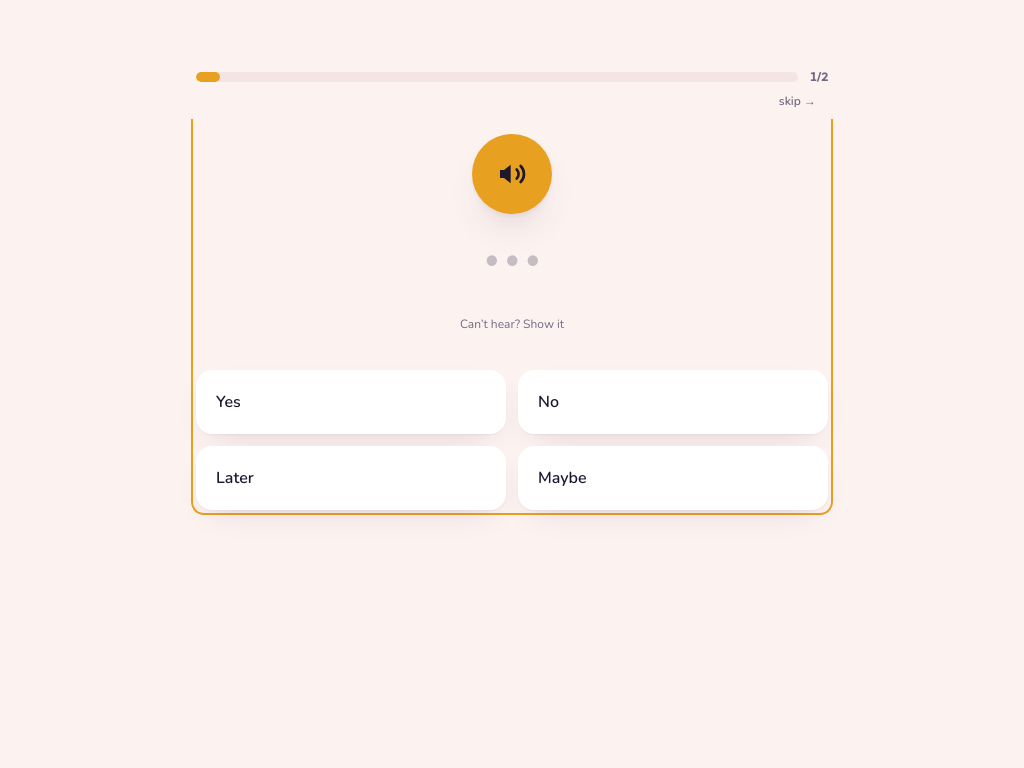
Scenario: ExerciseRunner › sends missed exercises to a review round
Note: Answer both wrong.
Click the button "Yes".
click(228, 402)  # box x1=196 y1=370 x2=506 y2=434
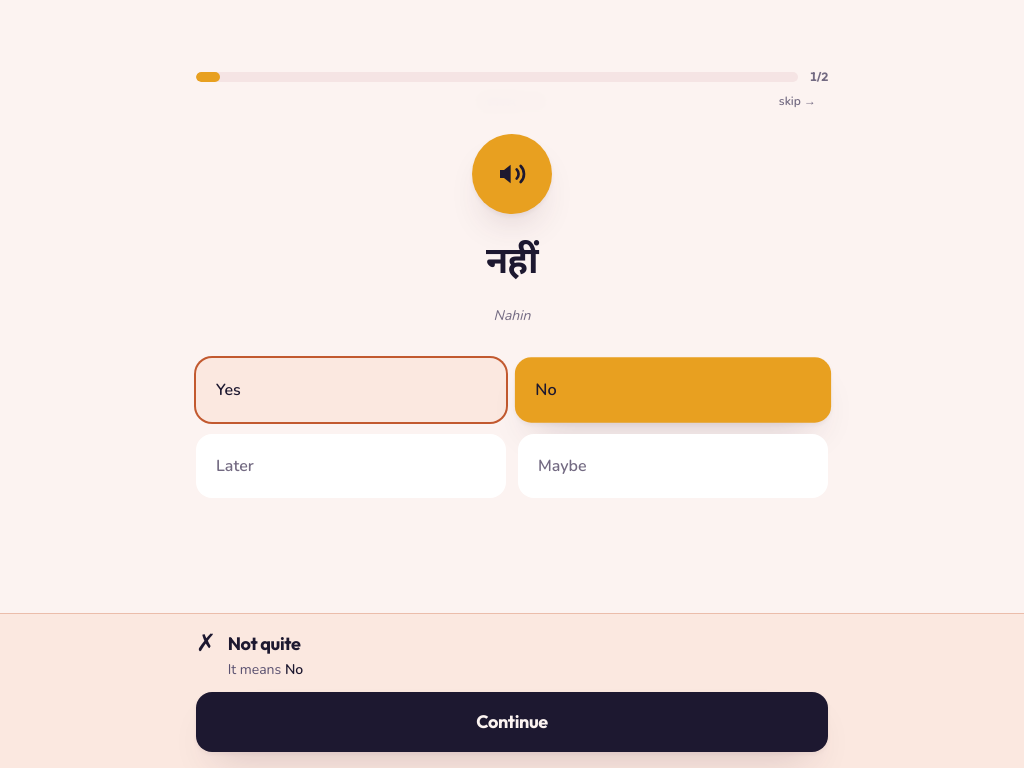
Click the button "Continue".
click(512, 722)  # box x1=196 y1=692 x2=828 y2=752
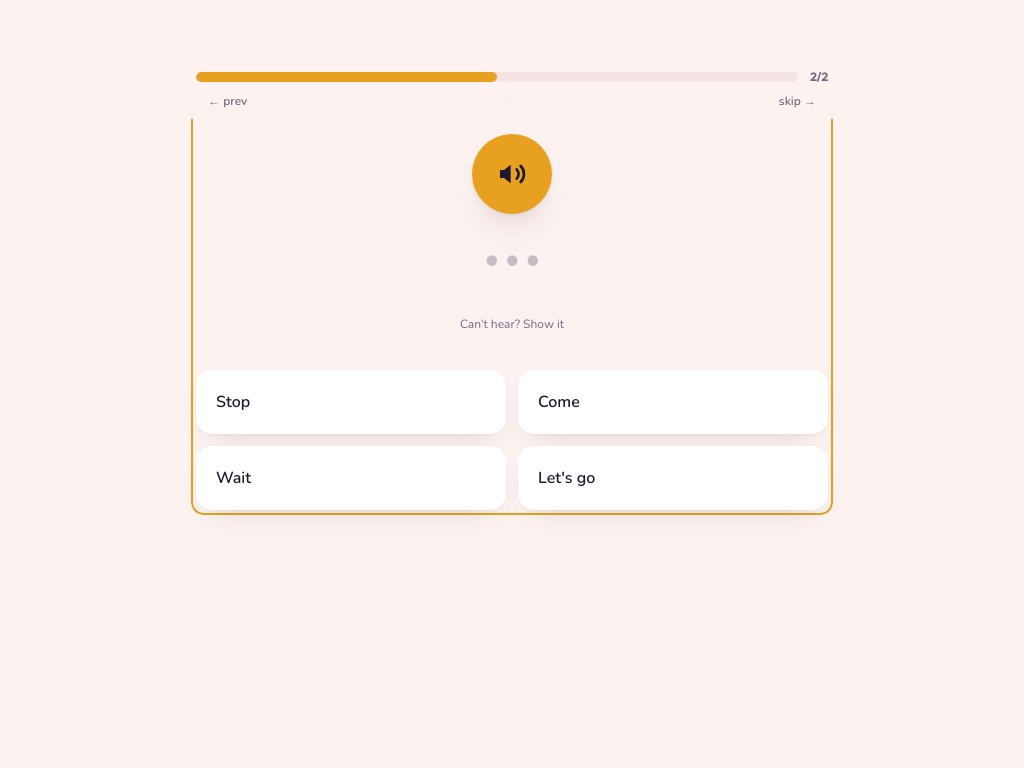
Click the button "Stop".
click(233, 402)  # box x1=196 y1=370 x2=506 y2=434
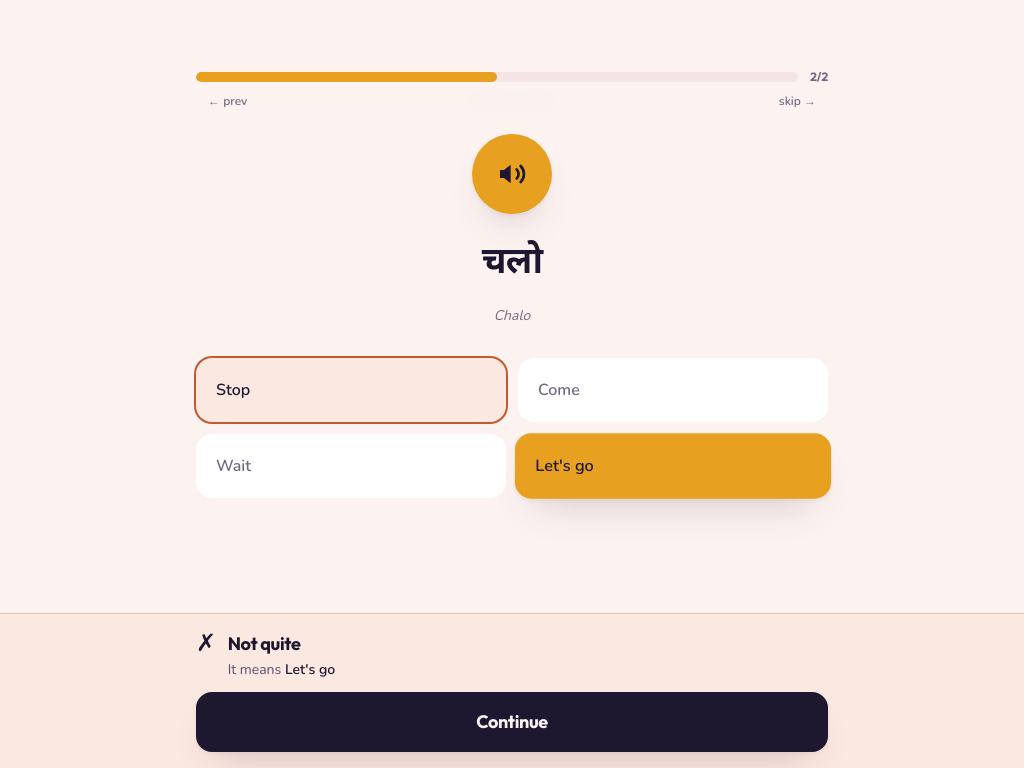
Click the button "Continue".
click(512, 722)  # box x1=196 y1=692 x2=828 y2=752
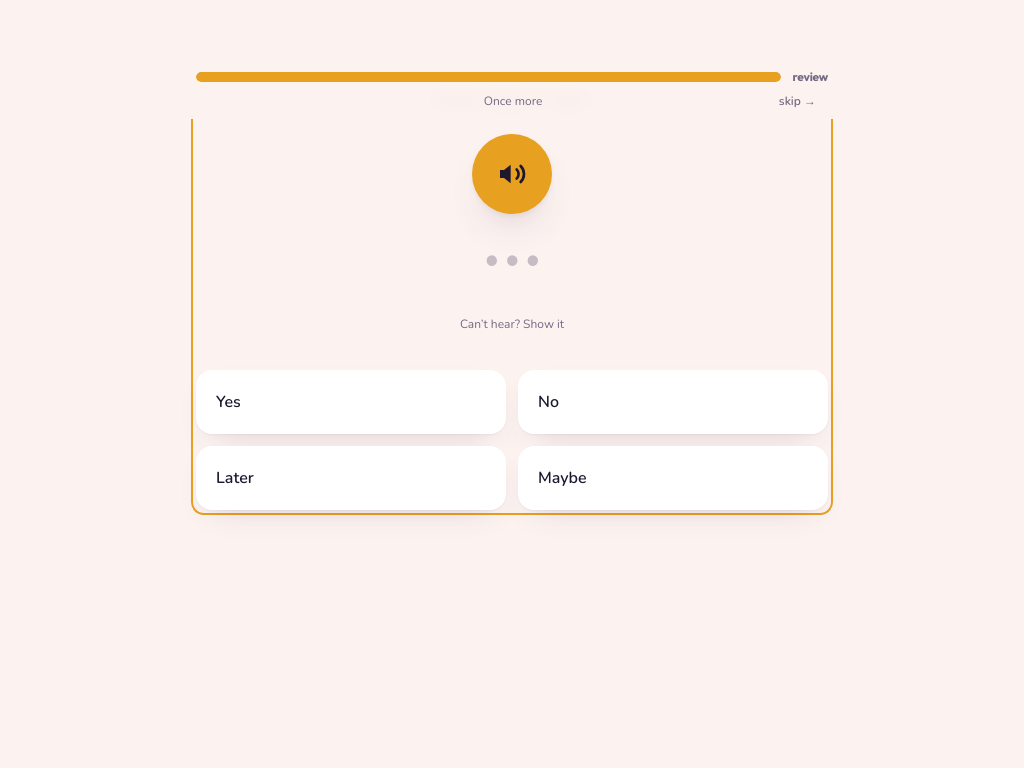
Now the text "review" is shown, box x1=792 y1=69 x2=828 y2=85
Now the text "Once more" is shown, box x1=484 y1=93 x2=542 y2=109
